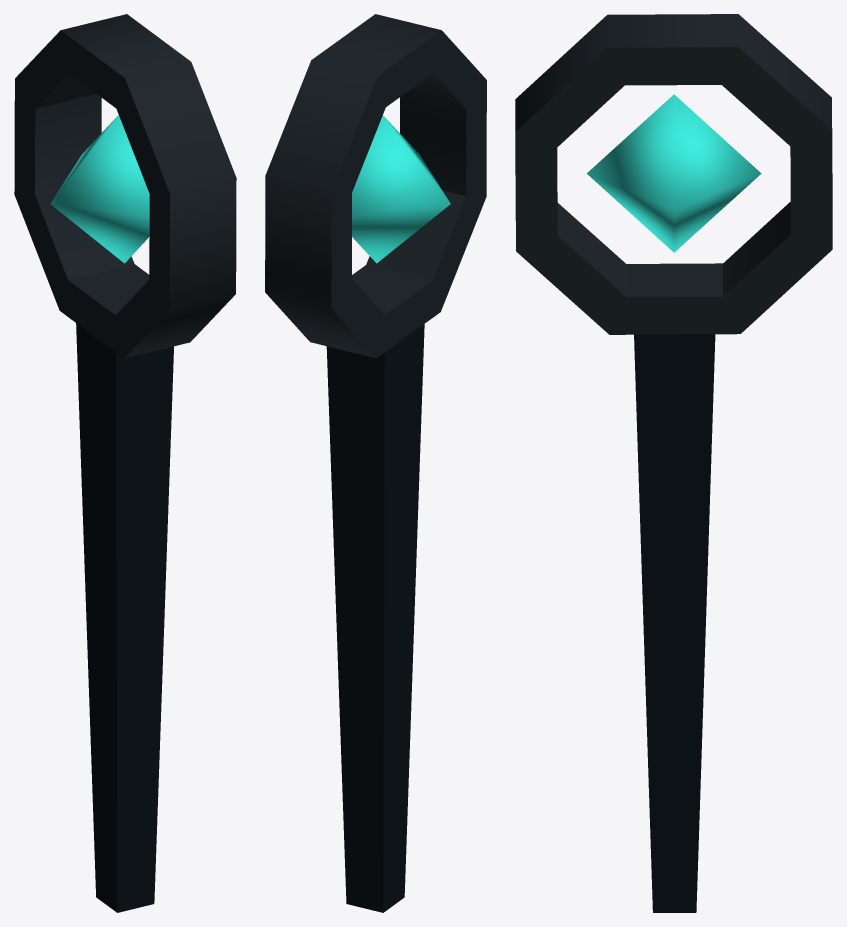
Rendered from Tether.FBX.
3 renders of one model, left to right at view 1: azimuth 30°, elevation 25°; view 2: azimuth 150°, elevation 25°; view 3: azimuth 270°, elevation 25°, orthographic. The views are drawn at different scales.
Parts seen in each view (by area): view 1: Sphere001; view 2: Sphere001; view 3: Sphere001.
Boxes of the visible parts, x1=… form: Sphere001: x1=14, y1=14, x2=236, y2=912; Sphere001: x1=265, y1=14, x2=486, y2=912; Sphere001: x1=515, y1=14, x2=832, y2=912.
Bounding box in the file's own units: 6.28 × 34.54 × 11.39.
